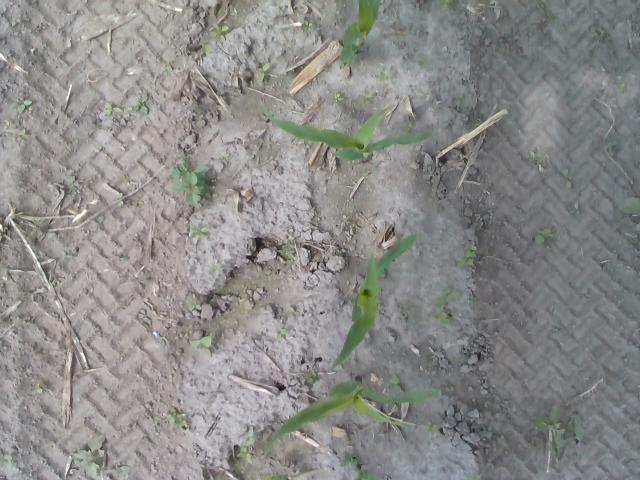Maize: (330, 235, 418, 373), (269, 382, 439, 451), (258, 101, 432, 166), (339, 0, 384, 64)
Weeds: (168, 158, 212, 208), (535, 408, 587, 448), (72, 439, 104, 480), (200, 23, 230, 55), (434, 286, 462, 310), (187, 334, 214, 358), (237, 432, 256, 464), (159, 408, 186, 430), (456, 241, 478, 268), (618, 196, 640, 218), (126, 95, 149, 114), (282, 239, 298, 264), (254, 61, 272, 82), (384, 373, 404, 391), (534, 228, 554, 246), (302, 367, 322, 383), (188, 224, 208, 238), (338, 452, 358, 466), (375, 64, 391, 81), (591, 29, 611, 42), (274, 324, 290, 340), (607, 138, 621, 156), (358, 470, 382, 480), (434, 310, 451, 324), (105, 102, 124, 114), (16, 99, 32, 113), (416, 51, 430, 66), (66, 175, 78, 192), (436, 0, 458, 9), (270, 471, 290, 480), (559, 166, 575, 176), (359, 94, 373, 104), (117, 466, 129, 476), (210, 264, 222, 273), (332, 94, 343, 103), (303, 20, 312, 31), (189, 303, 202, 310), (614, 83, 624, 92)
